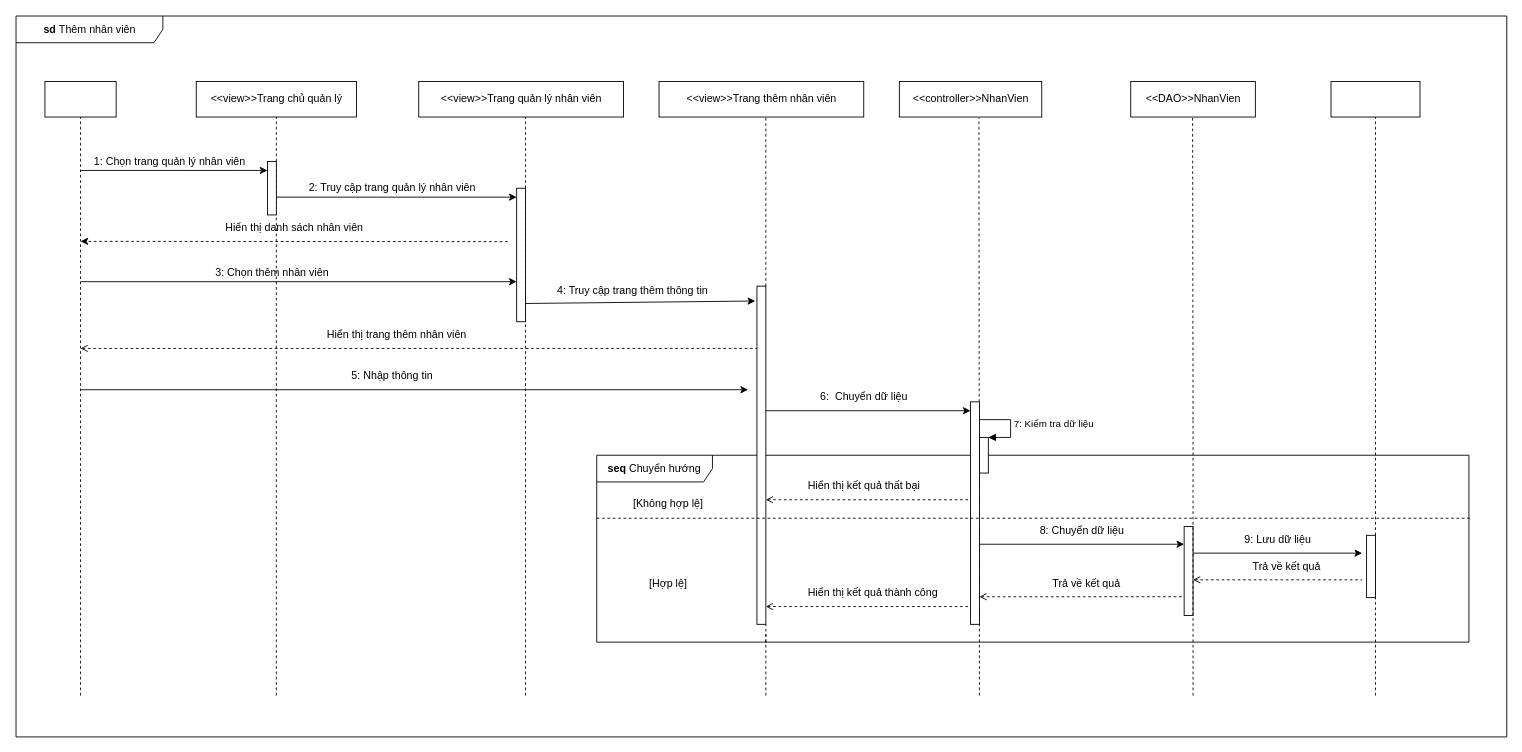
Some shapes in this 1522 by 752 pixel diagram are drawn without their labels. Each missing label, with the centre of its shape:
Database: (1375,99)
QuanLy: (80,99)
